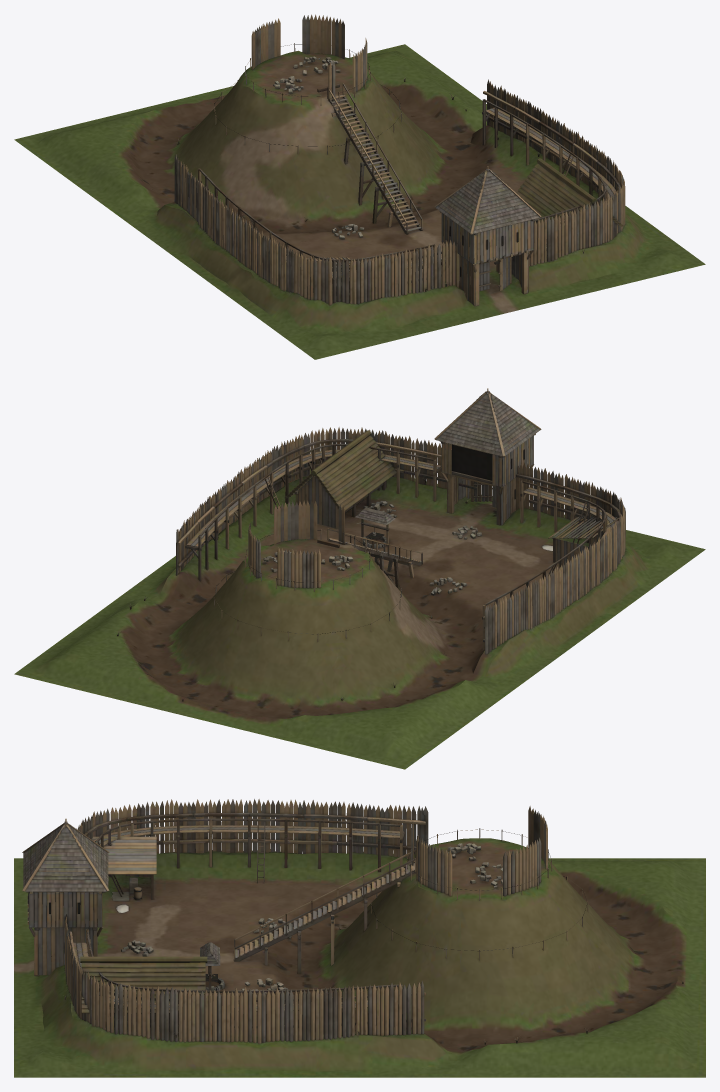
The model's file is shell_keep_build1.glb.
3 views of the same model, one above another, from view 1: azimuth 30°, elevation 25°; view 2: azimuth 150°, elevation 25°; view 3: azimuth 270°, elevation 25° (orthographic). The views are drawn at different scales.
Visible parts, largest first — view 1: shell_keep_build1_LOD0; view 2: shell_keep_build1_LOD0; view 3: shell_keep_build1_LOD0.
Boxes of the visible parts, x1,y1,x2,y2 form: shell_keep_build1_LOD0: (14,14,705,359); shell_keep_build1_LOD0: (14,388,705,769); shell_keep_build1_LOD0: (14,799,705,1077).
Size of what is drawn, in the model's own units: 36 by 11.4 by 48.
Materials: 1 (1 with a texture image).
